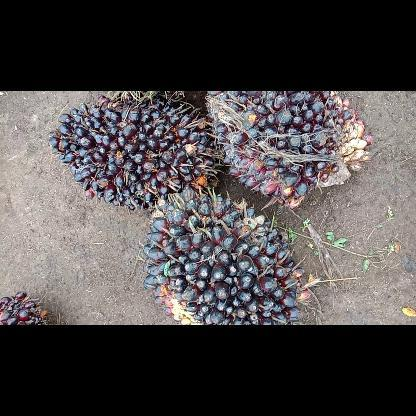TBS mentah: (142, 186, 316, 324), (202, 91, 376, 211), (46, 96, 224, 212)
